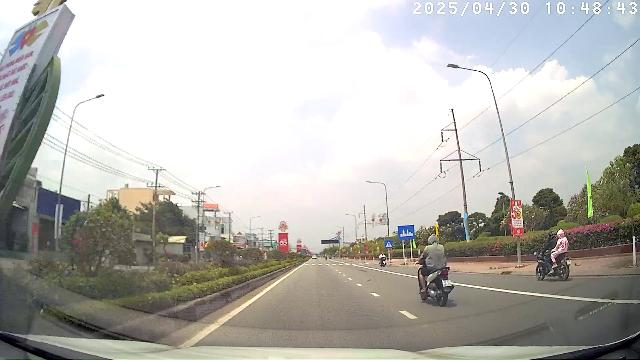420-bat-dau-khu-dong-dan-cu: (398, 226, 414, 239)
423a-duong-nguoi-di-bo-sang-ngang-1: (386, 240, 392, 248)
